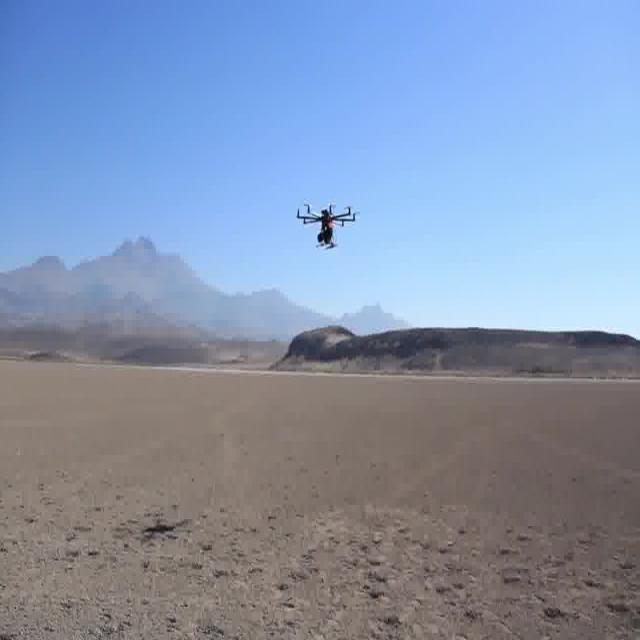drone: (289, 186, 363, 266)
